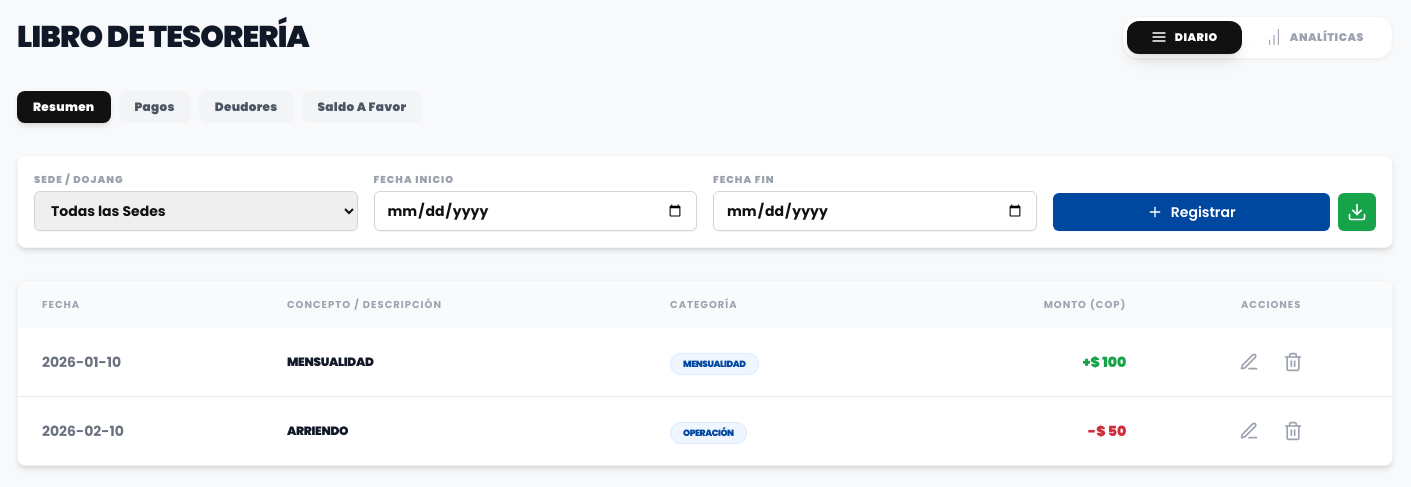
VistaFinanzas › renderiza movimientos, saldos y carga por sede
Expected: the text "Mensualidad" is shown 2 times, [263,328,646,396]; [670,352,758,374]
Expected: the text "Arriendo" is shown, [263,396,646,464]
Select "Norte" in the dropdown at (196, 210), box [34,190,358,230]
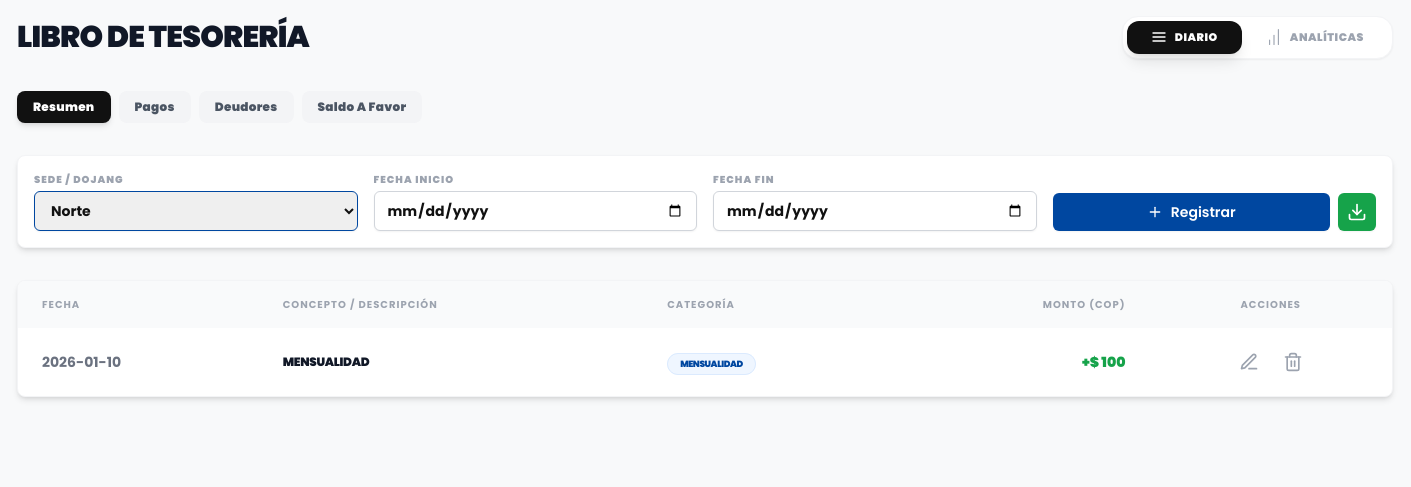
Expected: the text "Mensualidad" is shown 2 times, [259,328,643,396]; [667,352,756,374]
Expected: the text "Arriendo" is gone
